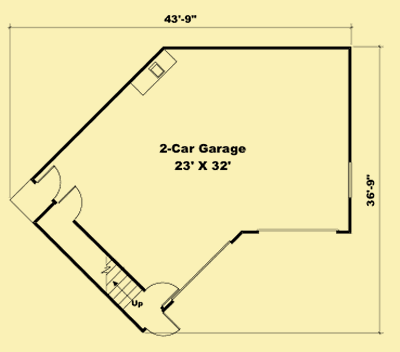door: (141, 312, 183, 339), (143, 279, 182, 307), (35, 166, 64, 203), (59, 184, 85, 222)
stairs: (100, 254, 143, 311)
